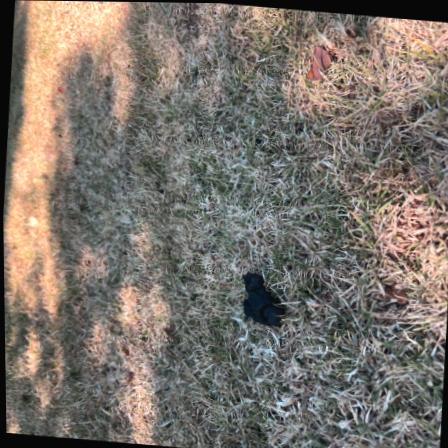dog-poop: (227, 265, 293, 335)
